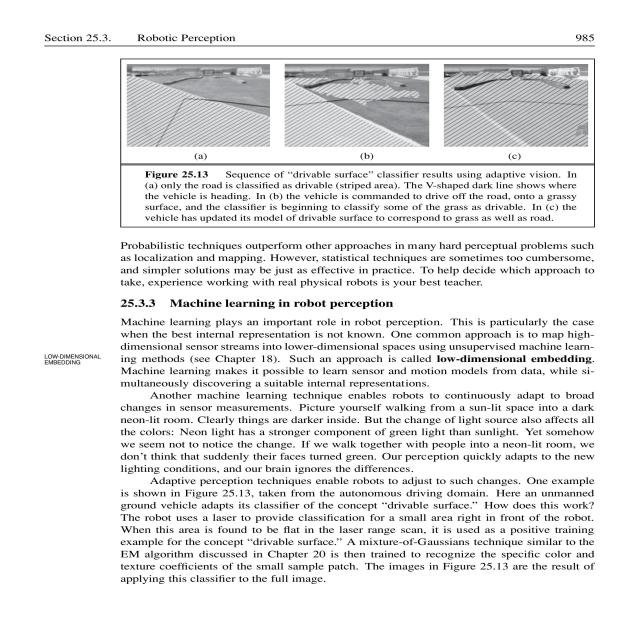diagram: (113, 57, 595, 234)
